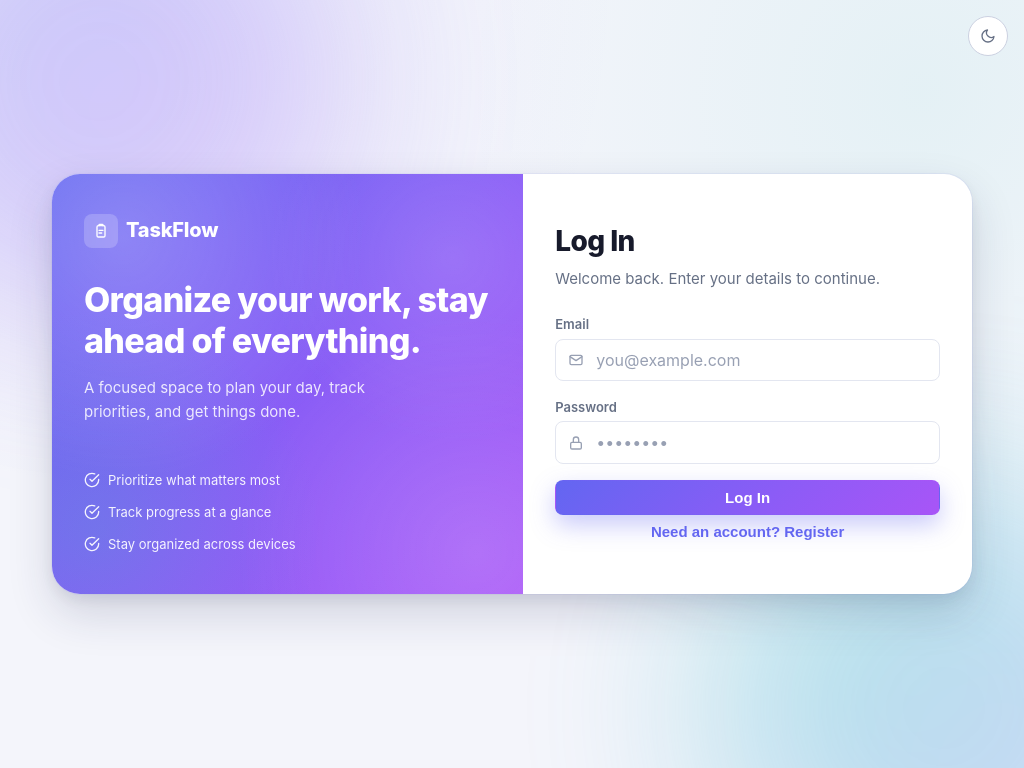
Test: LoginPage › a rejected login promise renders the error text via role="alert"
The width and height of the screenshot is (1024, 768).
In the field labelled "Email": x=762, y=360 [596, 340, 927, 380], type "a@b.com"
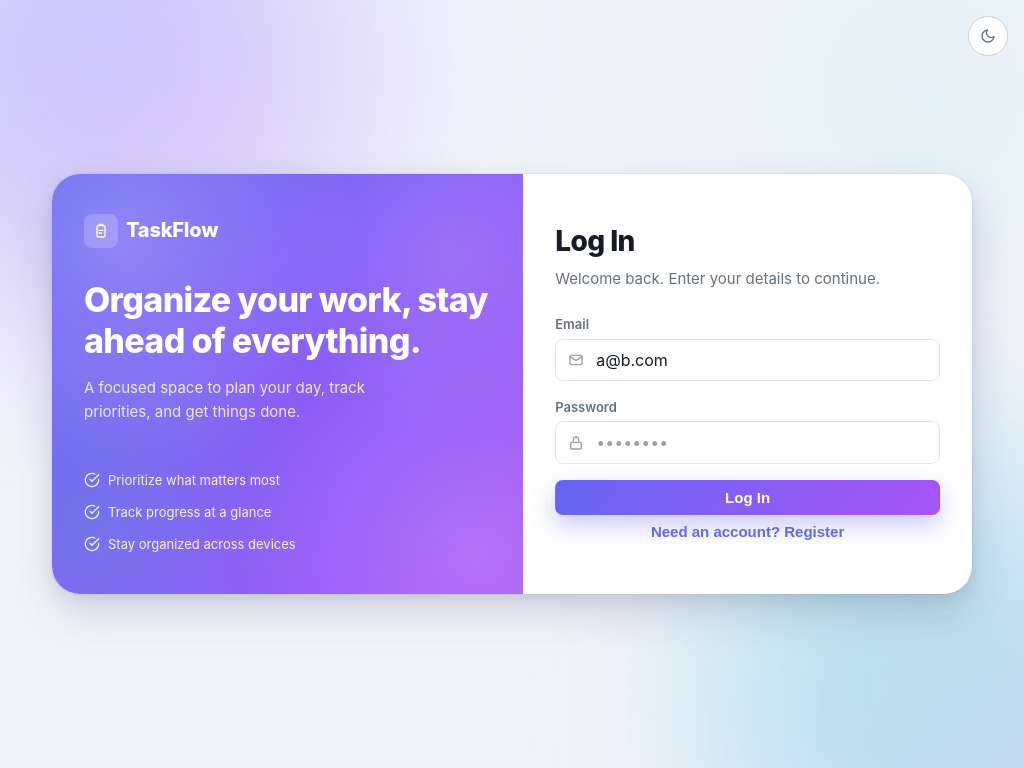
In the password field labelled "Password": x=762, y=443 [596, 422, 927, 463], type "wrongpass"
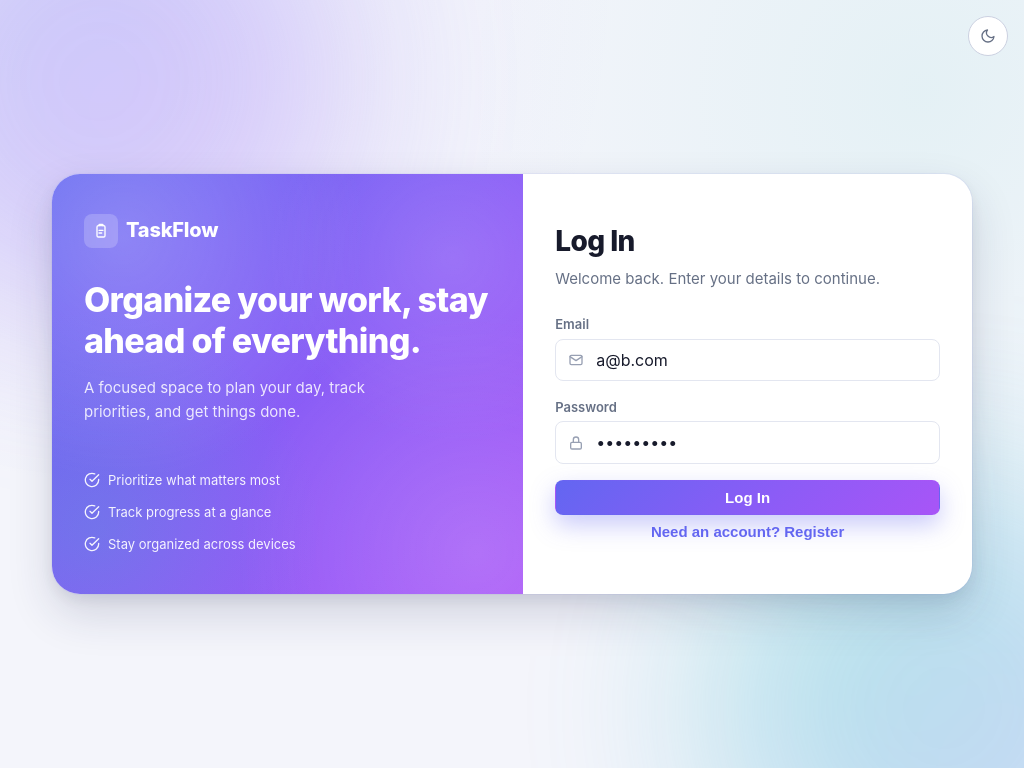
Click the button "Log In": x=748, y=498 [555, 480, 940, 515]
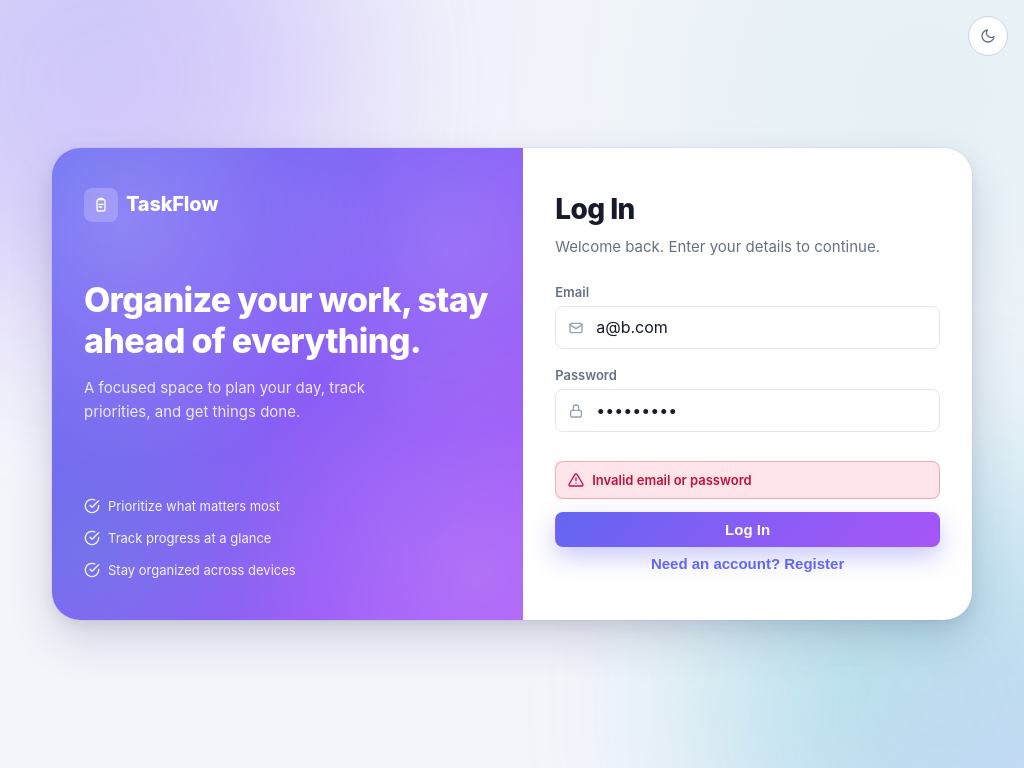
expect the message reads "Invalid email or password": met, box [592, 472, 752, 488]
